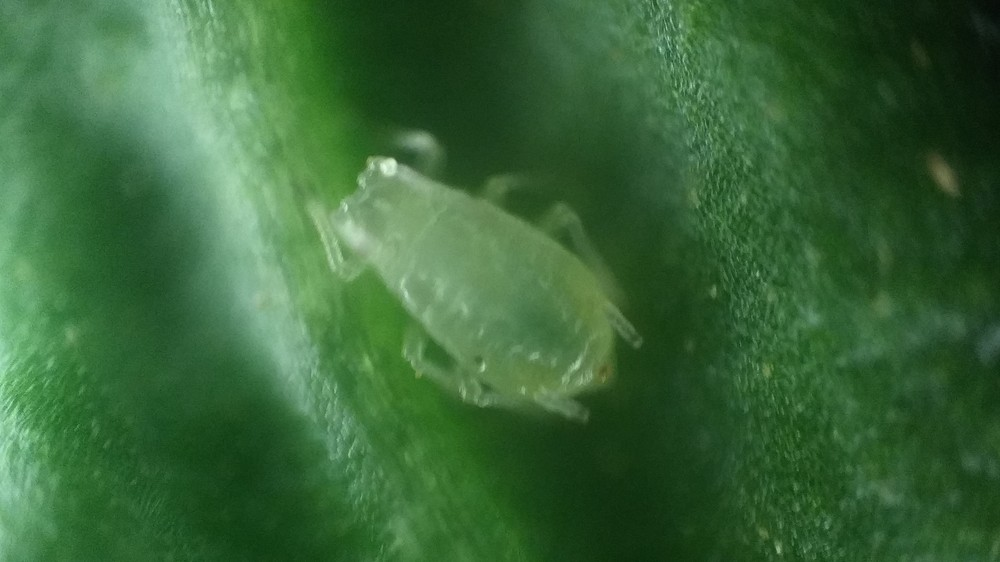Pulgon: (283, 113, 701, 460)
